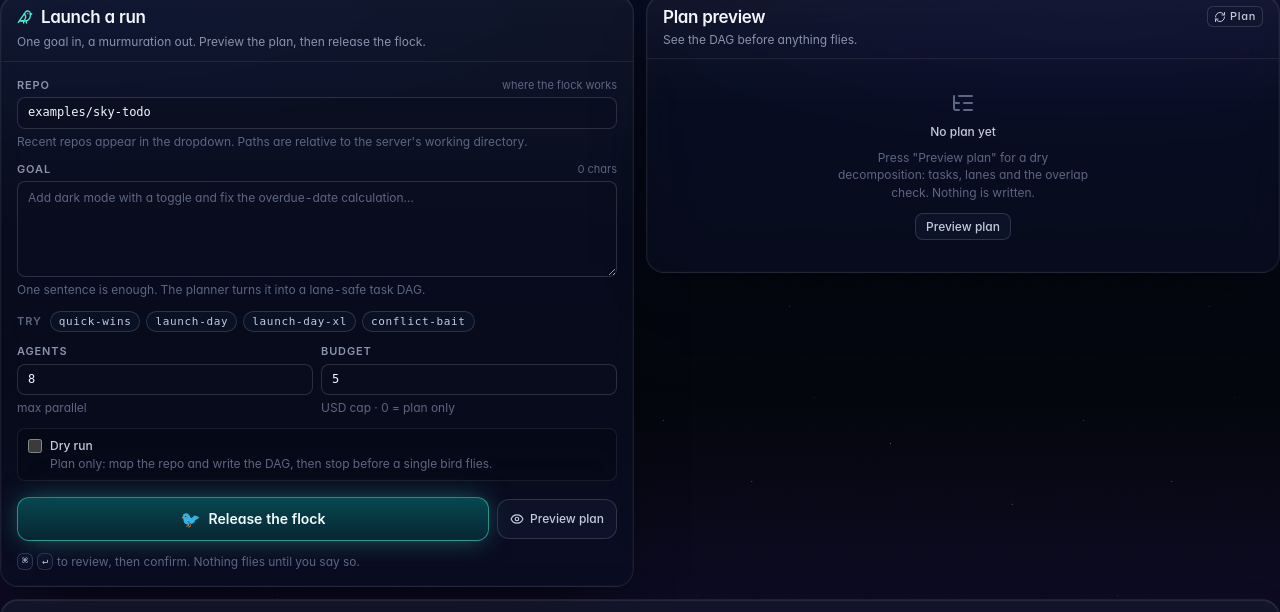
Test: launch form › ⌘/Ctrl+Enter opens the confirm gate too
Click the button "quick-wins": (95, 322) x1=50 y1=311 x2=140 y2=332
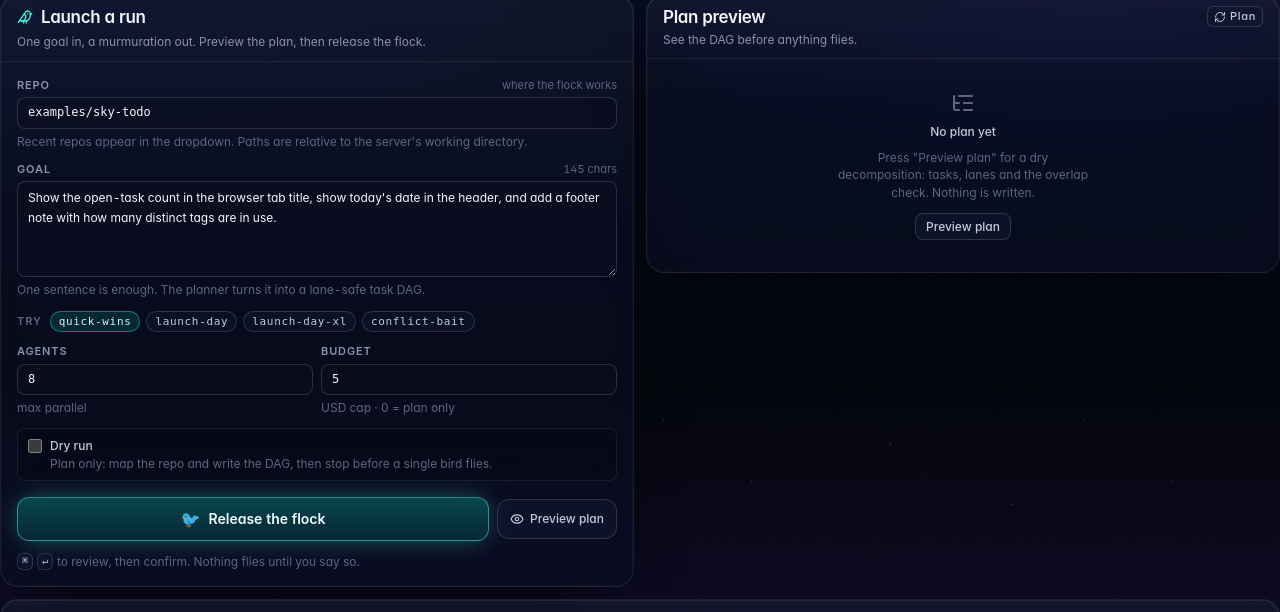
Press Enter in the form with test id "launch-form", box x1=1 y1=62 x2=633 y2=586
(page scrolled)
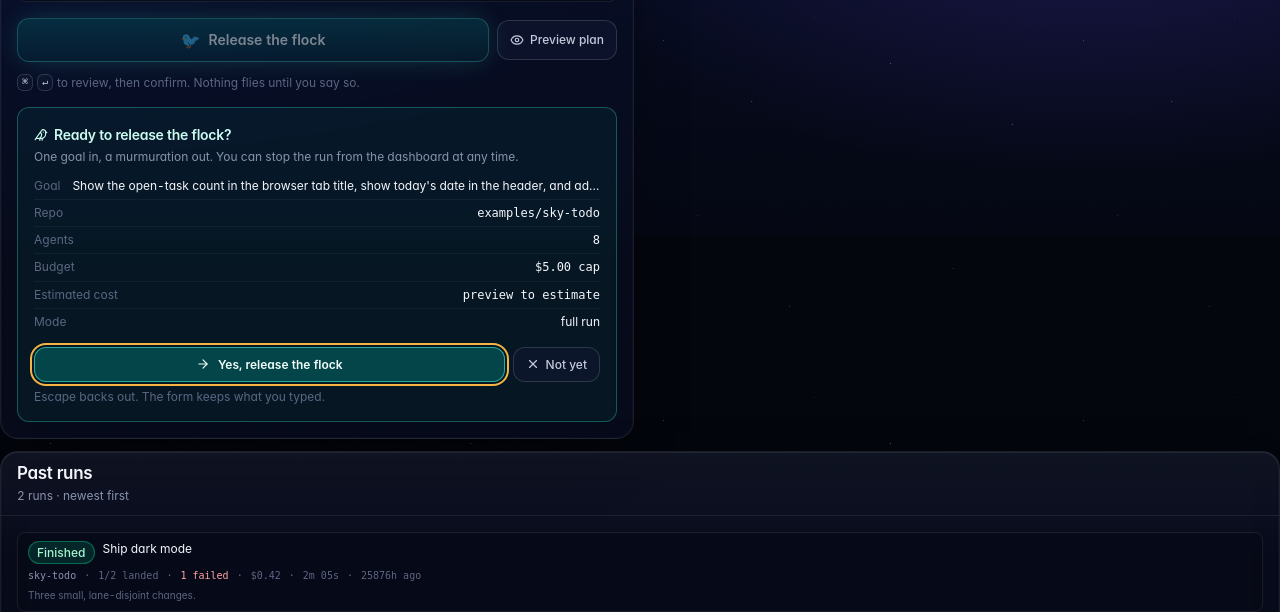
Check: the element with test id "launch-confirm" is shown
Press Escape in the element with test id "launch-confirm", box x1=17 y1=107 x2=617 y2=422
(page scrolled)
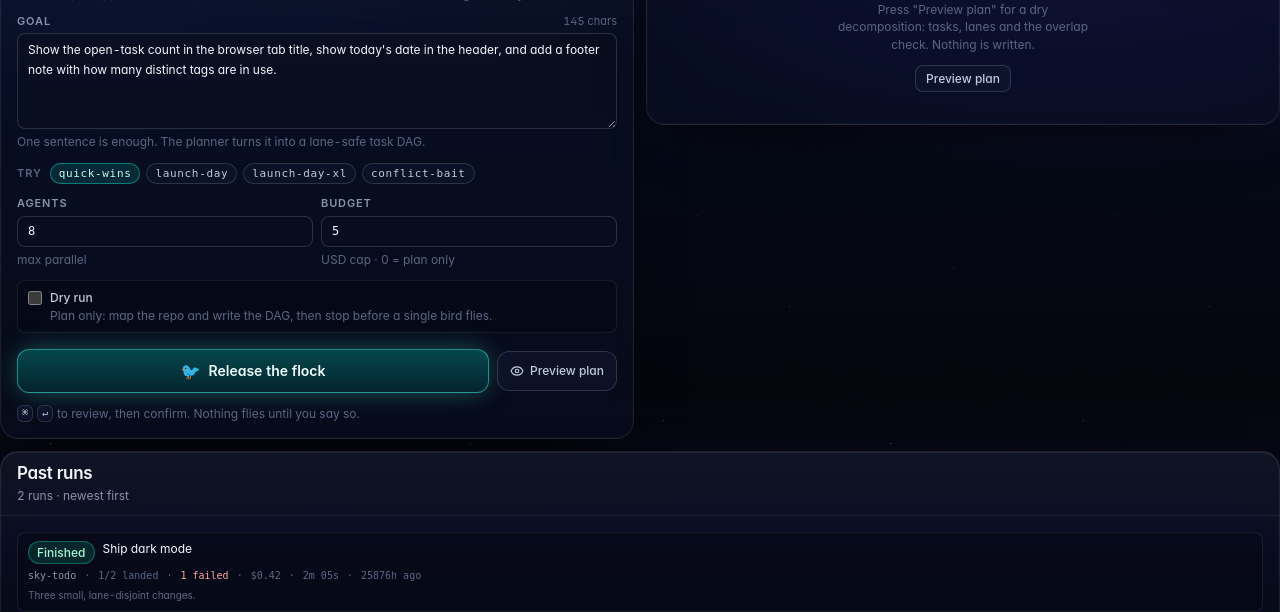
Check: the element with test id "launch-confirm" is gone
